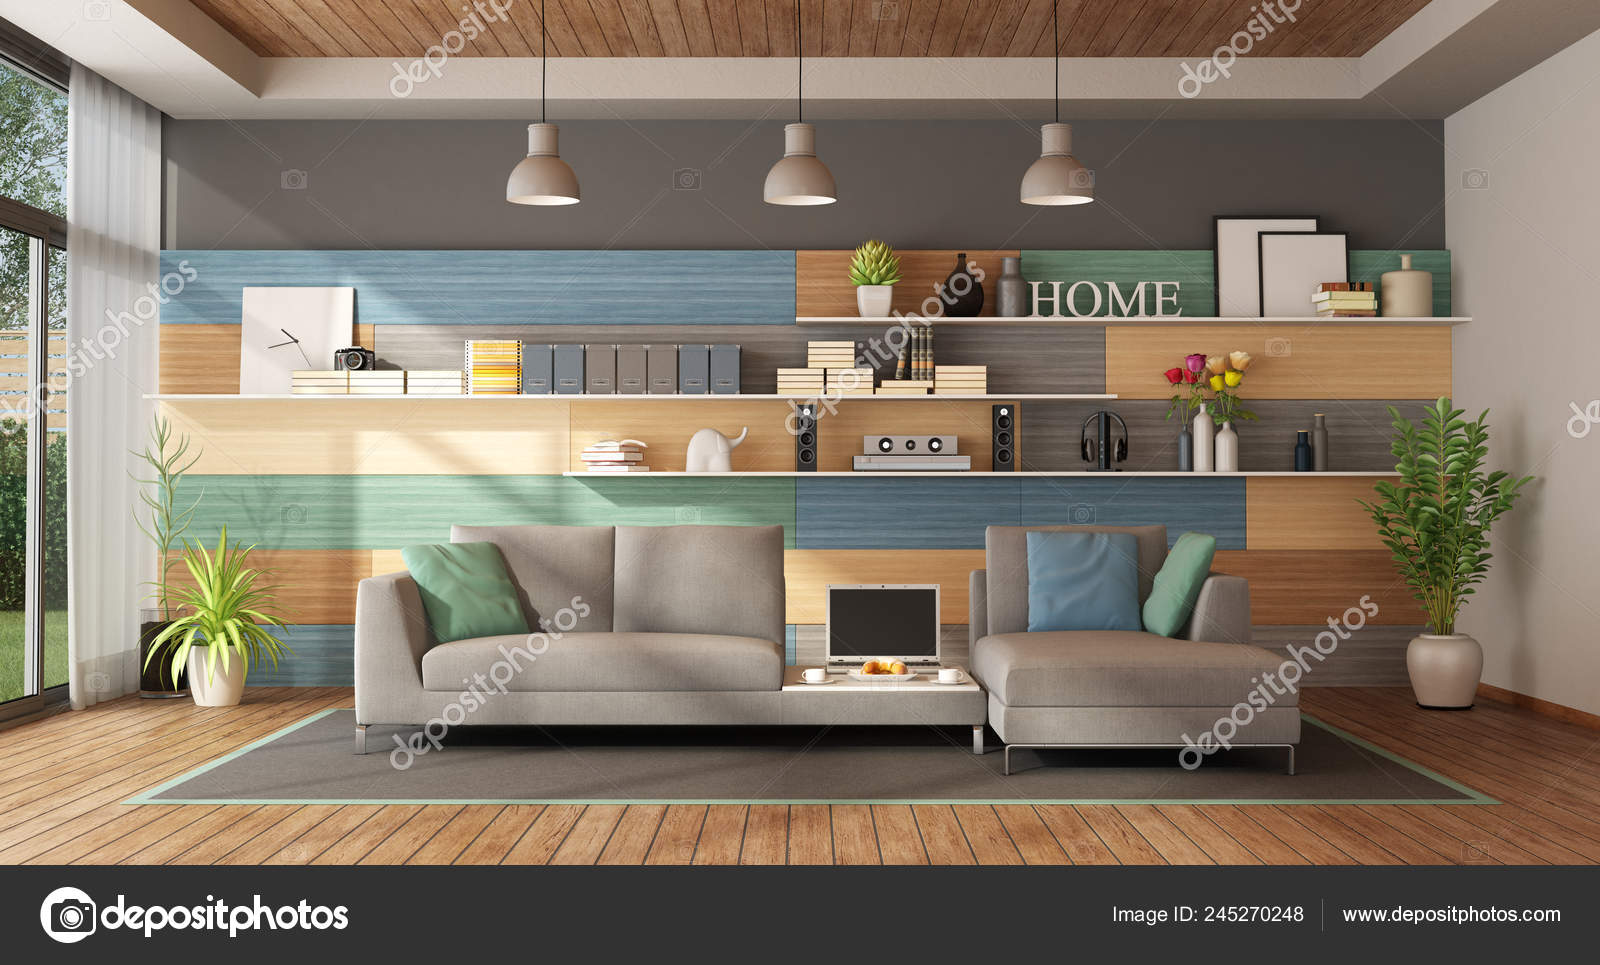biru: (1026, 532, 1144, 635)
hijau: (405, 548, 544, 631), (1153, 534, 1205, 636)
hitam: (830, 590, 935, 659), (1078, 410, 1135, 470), (944, 254, 986, 316), (795, 402, 821, 470), (993, 402, 1016, 469), (334, 345, 375, 372), (1293, 429, 1314, 471)
putih: (239, 284, 353, 370), (1405, 633, 1483, 710), (181, 641, 246, 704), (688, 430, 731, 474), (1194, 406, 1216, 473), (854, 285, 891, 318), (1218, 423, 1241, 471), (803, 669, 827, 685), (939, 669, 958, 689)
